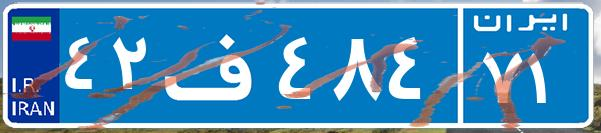1: (525, 38, 570, 115)
2: (110, 28, 158, 105)
4: (385, 28, 445, 110), (273, 28, 330, 110), (57, 26, 110, 107)
7: (475, 38, 525, 113)
8: (330, 28, 385, 110)
ف: (158, 15, 273, 115)
